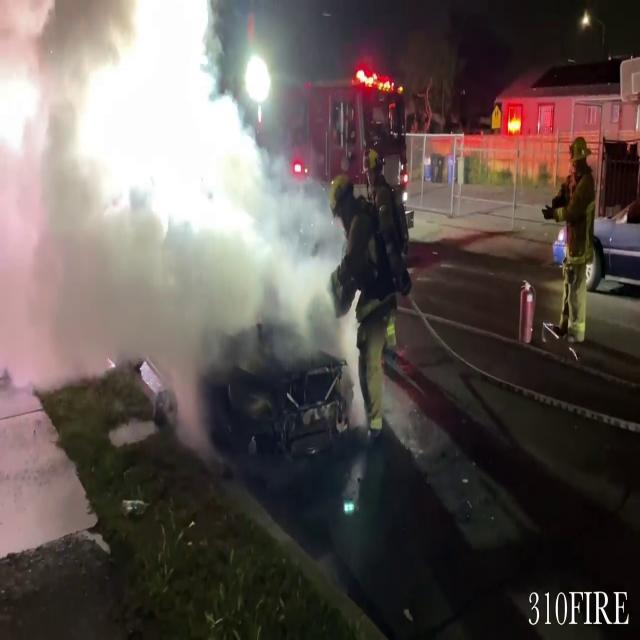Smoke: (1, 1, 350, 433)
